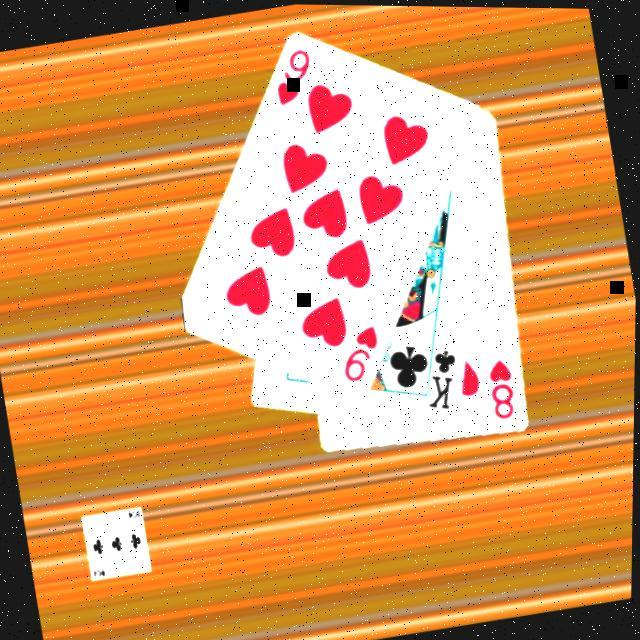8H: (482, 354, 522, 424)
9H: (332, 321, 388, 388), (264, 44, 319, 112)
KC: (410, 335, 467, 417)
